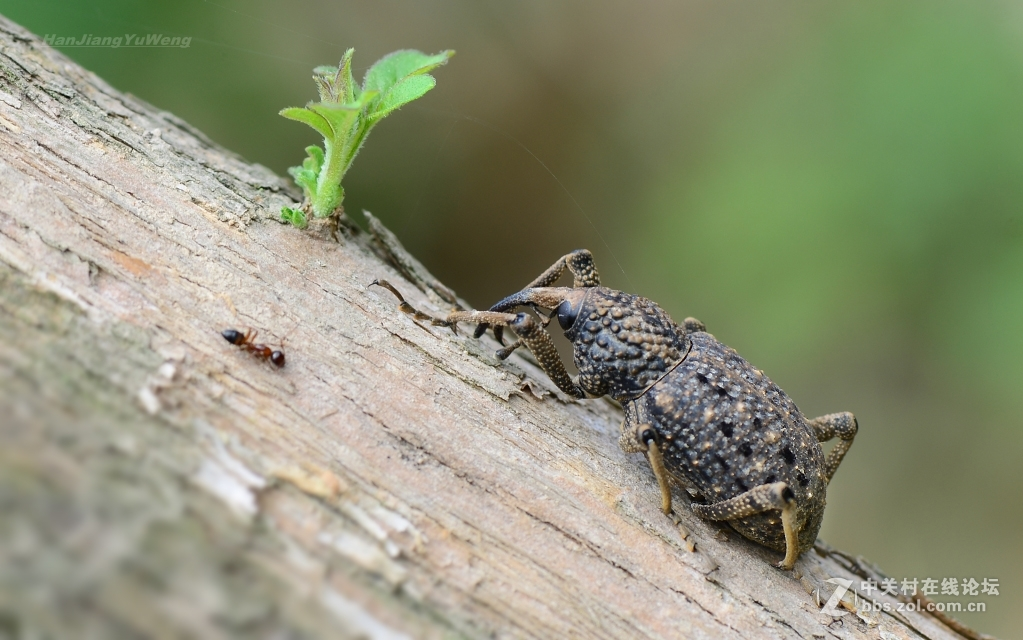Curculionidae: (368, 247, 857, 572)
